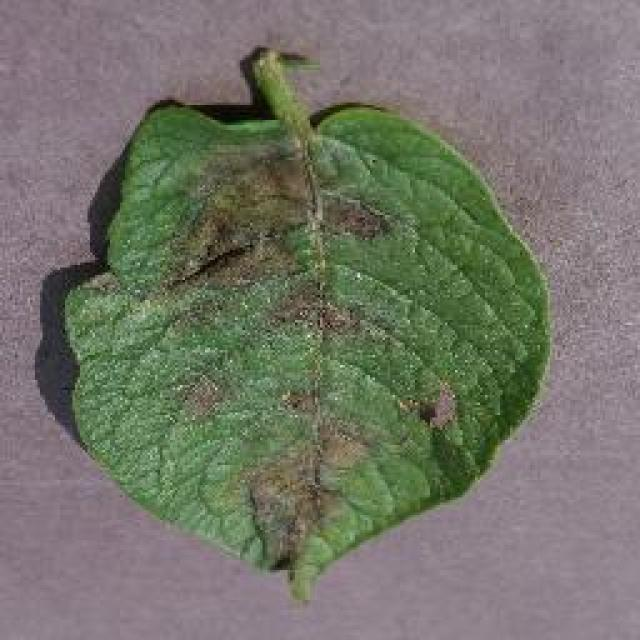Late_blight: (118, 98, 486, 569)
